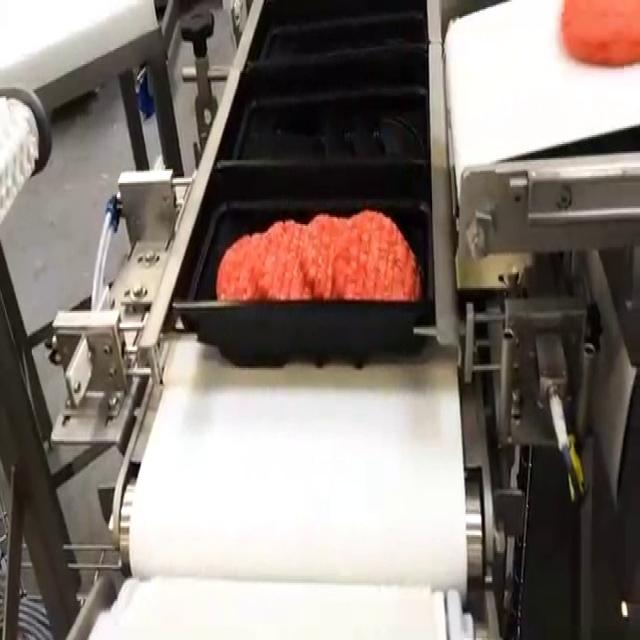4-hamburguer: (217, 210, 421, 300)
